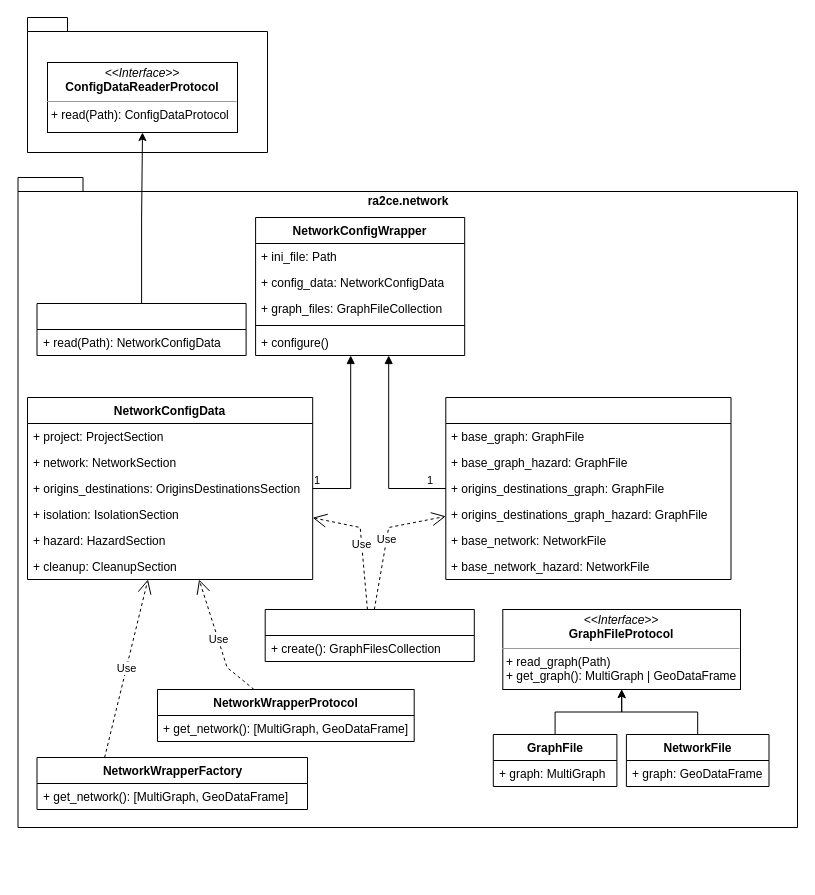
Image size: 815x895. Some labels were removed from this diagram. Each missing label, with the box of its shape:
GraphFilesCollection: (445, 396, 731, 580)
NetworkConfigDataReader: (36, 302, 246, 356)
Networks: (264, 608, 474, 662)
ra2ce.common.configuration: (26, 16, 268, 152)
